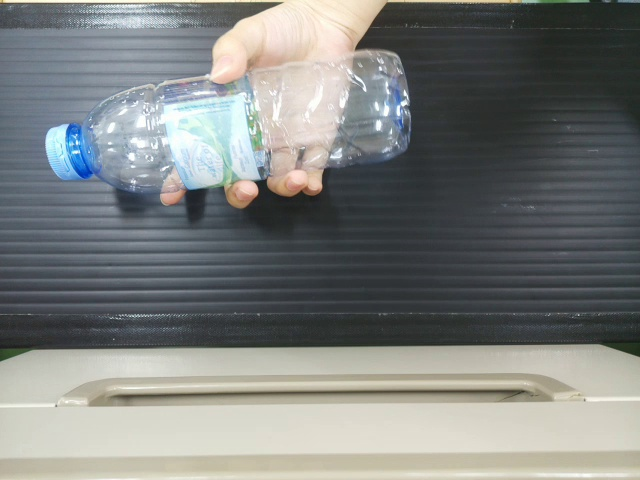bottle: (22, 57, 414, 191)
